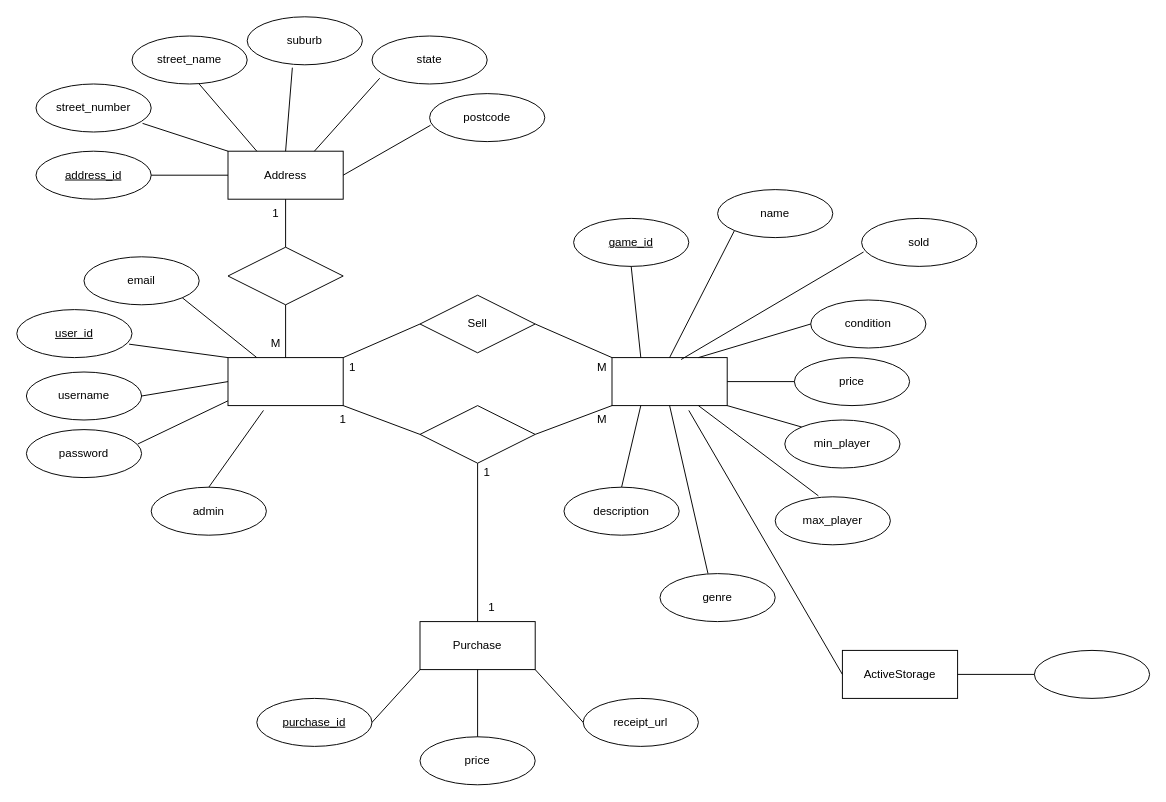
Some shapes in this 1166 by 802 pixel diagram are drawn without their labels. Here are the shapes that lost their labels. From the top down, the centre of each, then its label:
pixel 285 275: have
pixel 285 381: User
pixel 669 381: Game
pixel 477 434: Buy
pixel 1091 673: filename
